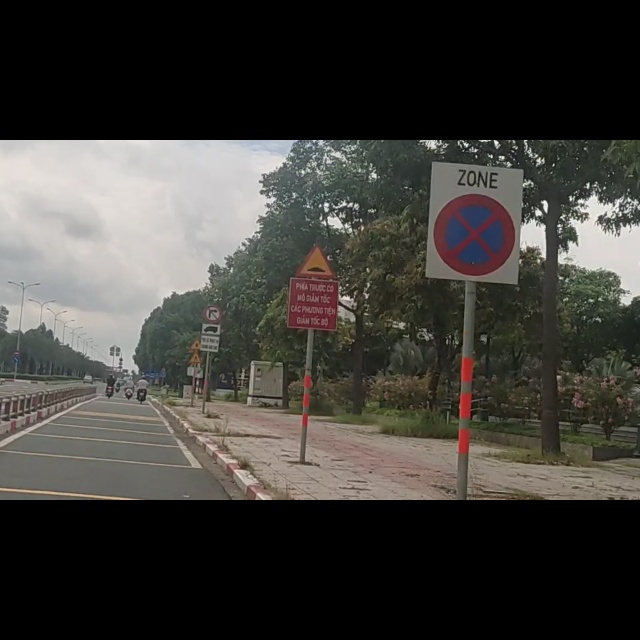bien_cam: (429, 39, 522, 257), (295, 184, 335, 245), (199, 326, 221, 376), (203, 293, 222, 325)
